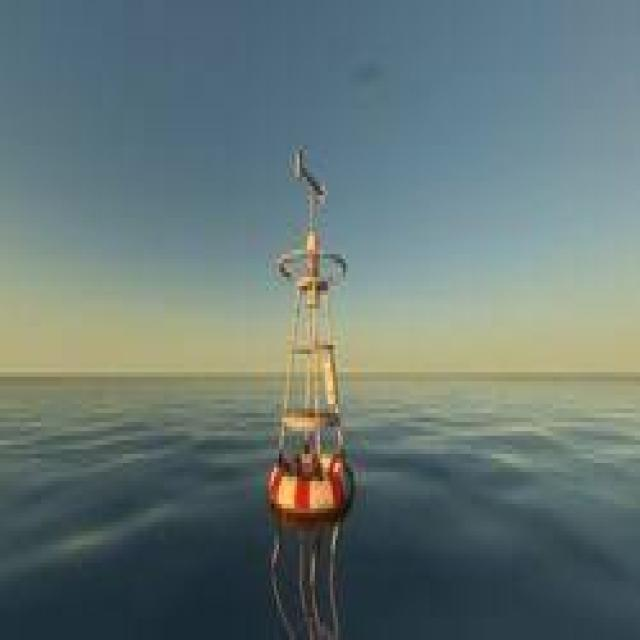2.5 sepcial mark: (253, 114, 360, 539)
